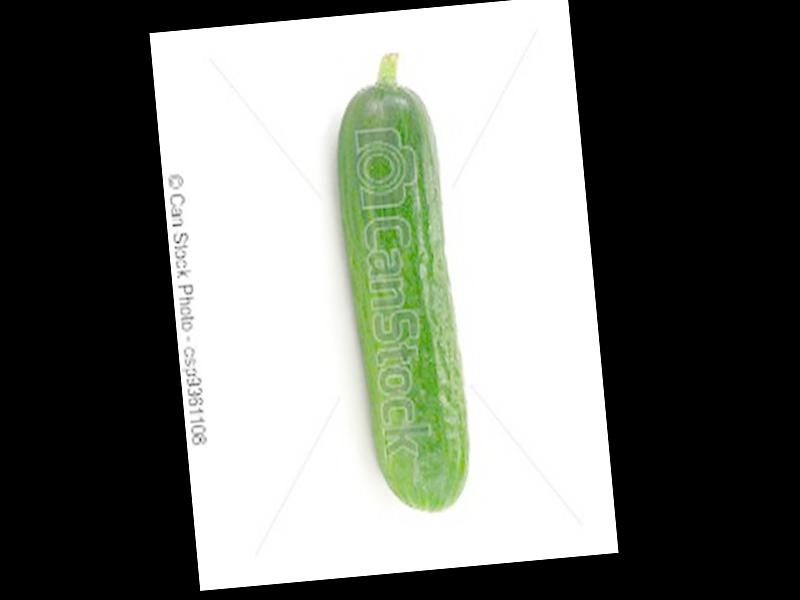Cucumber: (325, 47, 475, 521)
